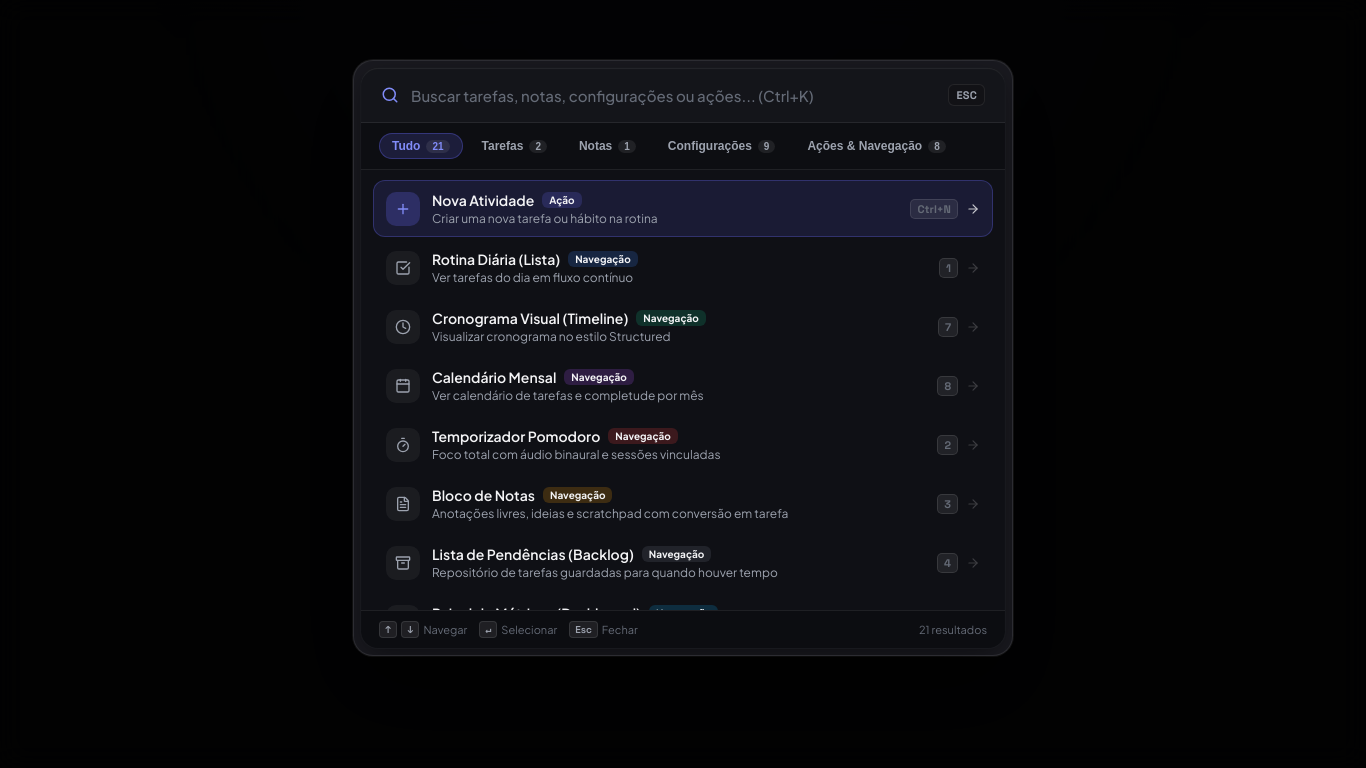
GlobalSearchModal Component › deve buscar notas pelo título ou conteúdo
Type "SQLite nativo" into the field with test id "global-search-input".
click(674, 95); type("SQLite nativo")  # box [411,84,936,106]
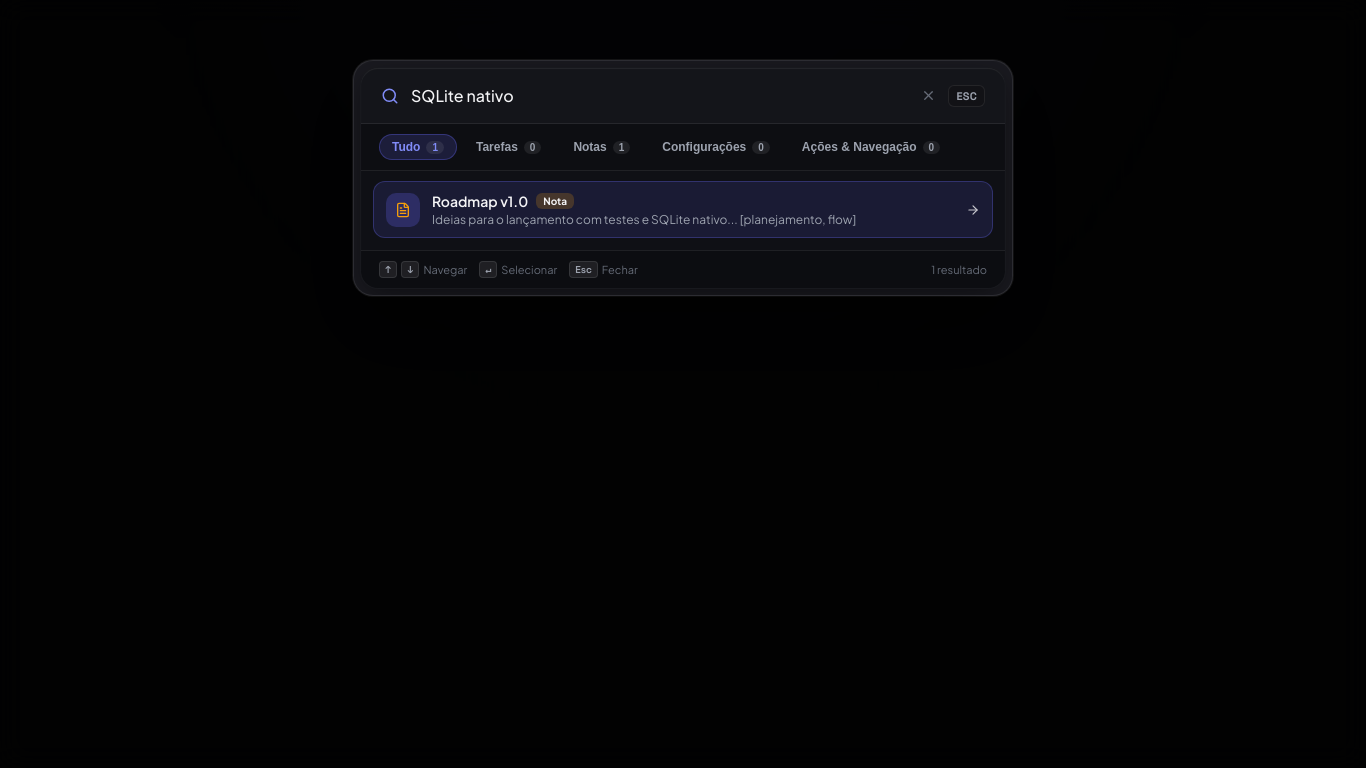
expect the text "Roadmap v1.0" is shown: met, box [432,192,528,210]
